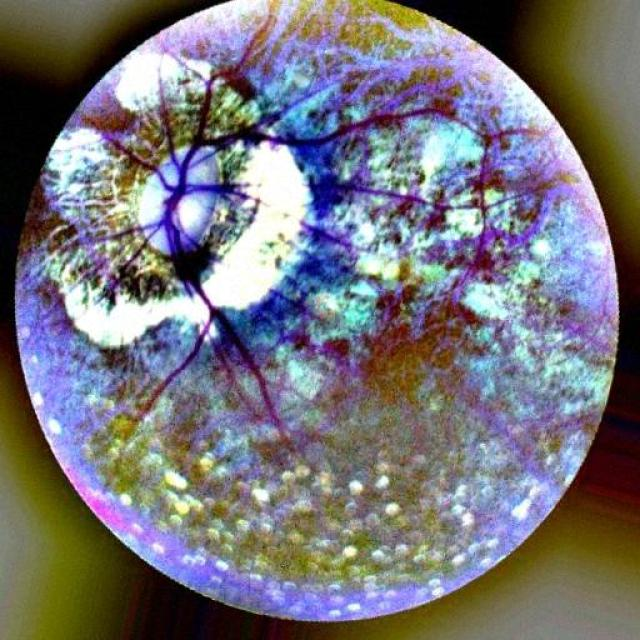Nerves: (120, 80, 526, 429), (320, 174, 419, 202)
Optic Disk: (139, 148, 226, 255)
